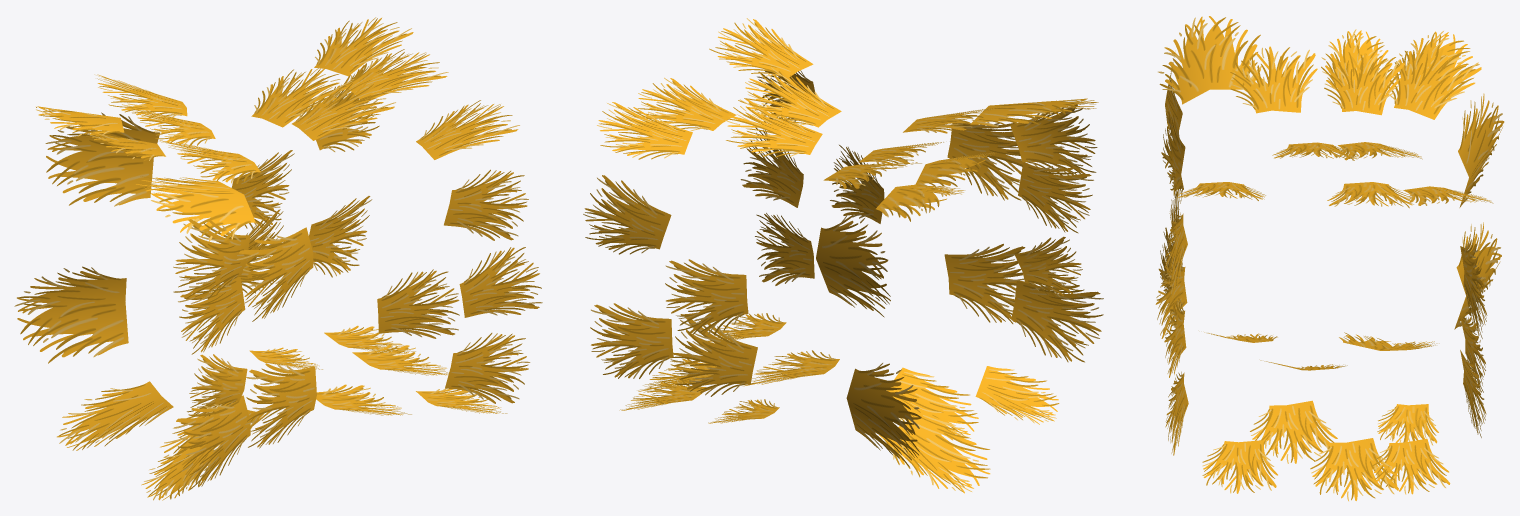
Rendered from Pajar cuadrado planos.fbx.
The picture shows the model from 3 angles, left to right: view 1: azimuth 30°, elevation 25°; view 2: azimuth 150°, elevation 25°; view 3: azimuth 270°, elevation 25°; orthographic projection. The views are drawn at different scales.
Visible parts, largest first — view 1: Paja_2_9, Paja_2_11, Paja_2_7, Paja_2_12, Paja_1_42, Paja_1_41, Paja_1_30, Paja_1_50, Paja_1_37, Paja_1_38, Paja_1_36, Paja_1_29 (+23 smaller); view 2: Paja_2_9, Paja_2_11, Paja_1_30, Paja_2_12, Paja_1_41, Paja_1_46, Paja_1_39, Paja_1_47, Paja_1_40, Paja_1_42, Paja_1_29, Paja_1_31 (+23 smaller); view 3: Paja_2_7, Paja_1_43, Paja_1_44, Paja_1_53, Paja_1_54, Paja_1_45, Paja_1_51, Paja_1_52, Paja_2_11, Paja_2_10, Paja_2_8, Paja_1_55 (+17 smaller).
Part boxes in pixels (box(x1,y1,x2,y2)): Paja_2_9: box(14, 266, 128, 363); Paja_2_11: box(45, 112, 159, 206); Paja_2_7: box(136, 176, 255, 241); Paja_2_12: box(57, 381, 173, 450); Paja_1_42: box(237, 227, 313, 321); Paja_1_41: box(245, 363, 316, 448); Paja_1_30: box(174, 395, 250, 489); Paja_1_50: box(377, 269, 459, 338); Paja_1_37: box(444, 169, 528, 240); Paja_1_38: box(445, 333, 530, 403); Paja_1_36: box(459, 247, 542, 317); Paja_1_29: box(173, 219, 250, 299); Paja_2_9: box(846, 363, 921, 466); Paja_2_11: box(816, 215, 890, 317); Paja_1_30: box(1011, 281, 1103, 362); Paja_2_12: box(879, 410, 990, 493); Paja_1_41: box(944, 243, 1035, 323); Paja_1_46: box(665, 259, 748, 334); Paja_1_39: box(590, 303, 673, 378); Paja_1_47: box(670, 316, 757, 396); Paja_1_40: box(583, 175, 671, 254); Paja_1_42: box(947, 122, 1030, 200); Paja_1_29: box(1010, 104, 1097, 175); Paja_1_31: box(1018, 162, 1093, 233); Paja_2_7: box(1158, 16, 1261, 104); Paja_1_43: box(1230, 46, 1317, 113); Paja_1_44: box(1387, 47, 1481, 119); Paja_1_53: box(1310, 438, 1398, 501); Paja_1_54: box(1250, 400, 1337, 463); Paja_1_45: box(1324, 53, 1404, 115); Paja_1_51: box(1202, 440, 1277, 493); Paja_1_52: box(1372, 438, 1450, 494); Paja_2_11: box(1458, 93, 1504, 207); Paja_2_10: box(1321, 29, 1395, 89); Paja_2_8: box(1394, 31, 1479, 96); Paja_1_55: box(1377, 404, 1438, 445).
Bounding box in the file's own units: 60.72 × 49.54 × 49.41.
